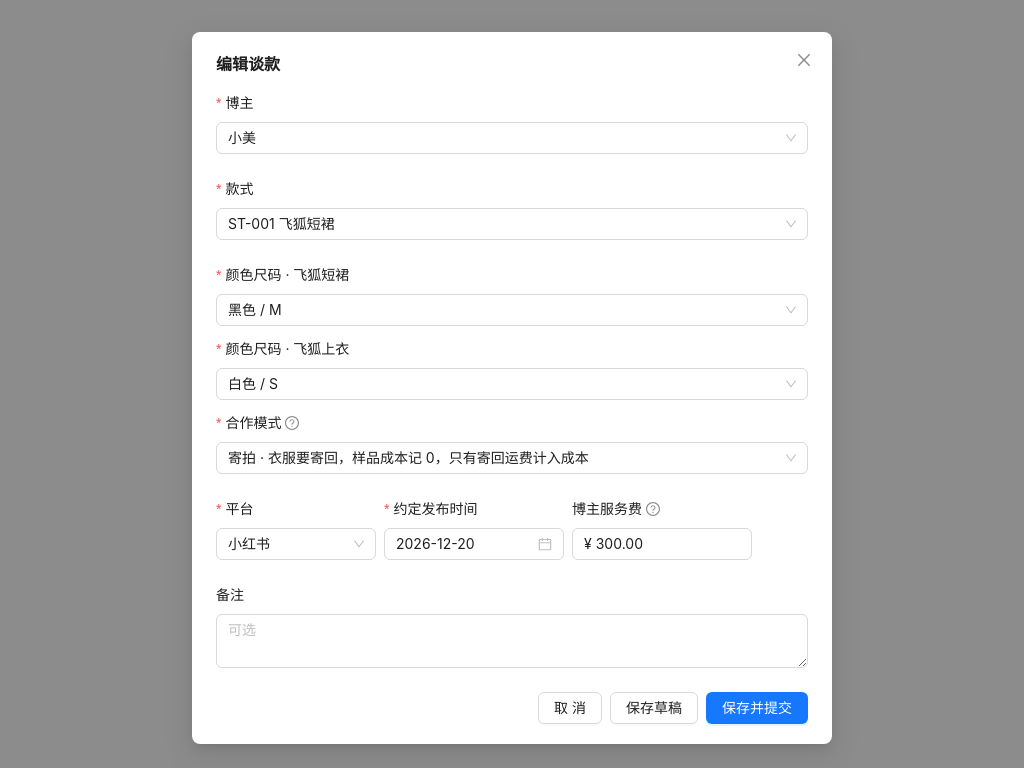
Test: NegotiationFormModal › 主管自建的谈款提交成功：提示找管理员临时授权代理人（11-24）
(page scrolled)
Expected: the text "白色 / S" is shown, [228,375,278,392]
Step 1. Click the button "保存并提交" → (757, 708), box [706,692,808,724]
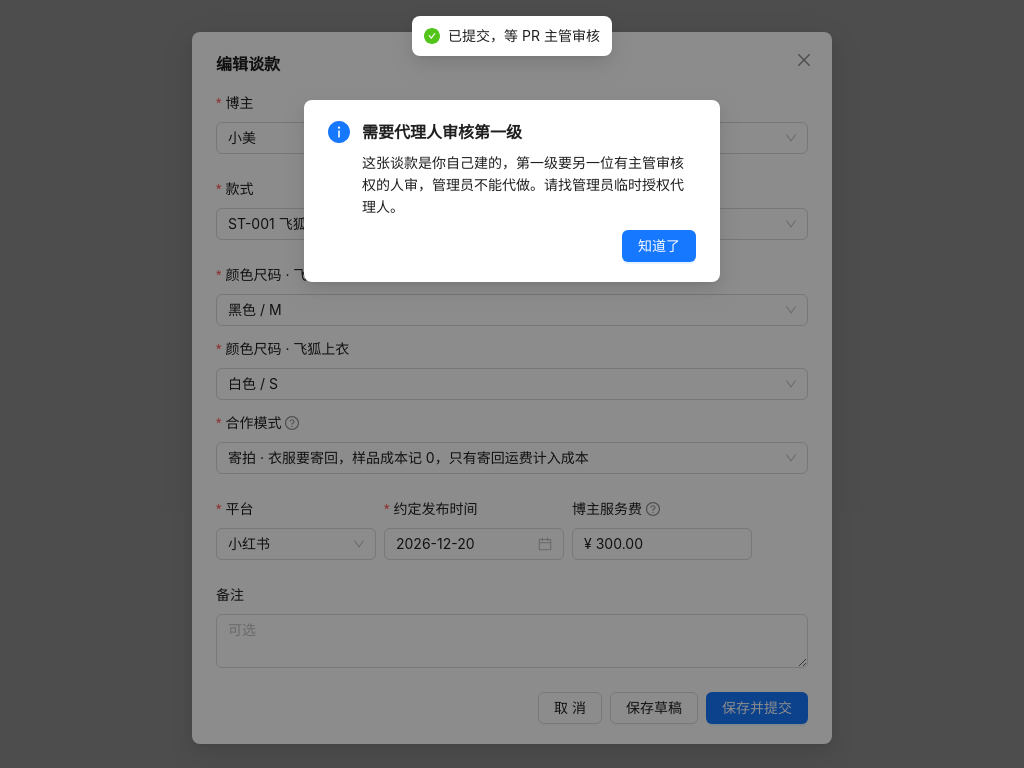
Expected: the text "这张谈款是你自己建的，第一级要另一位有主管审核权的人审，管理员不能代做。请找管理员临时授权代理人。" is shown, [362,152,696,218]
